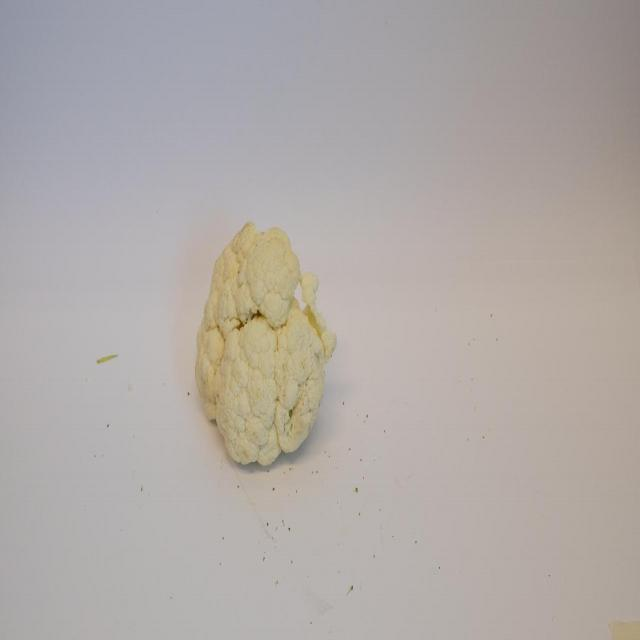cauliflower: (192, 213, 339, 480)
